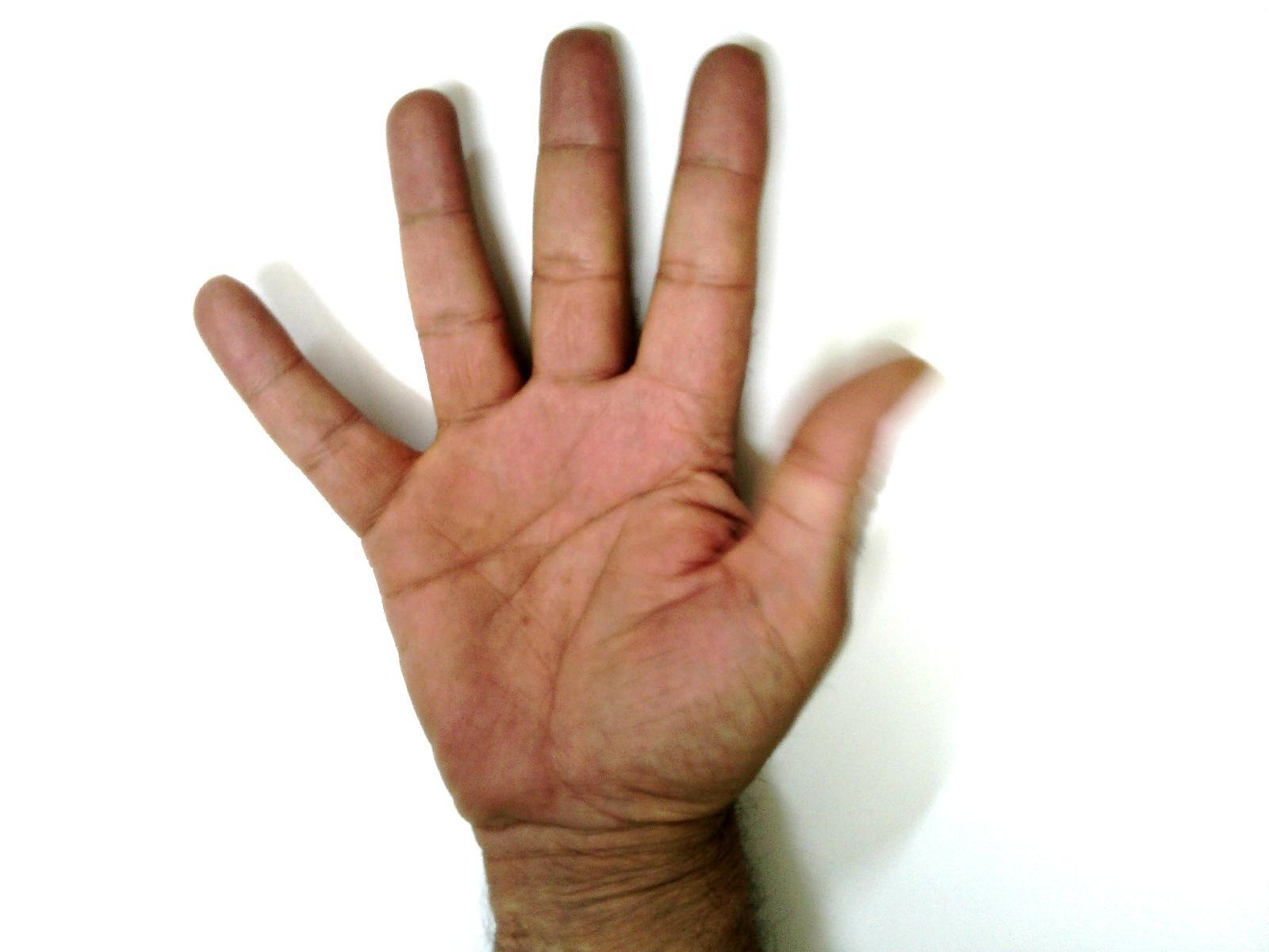open_palm: (191, 24, 937, 825)
